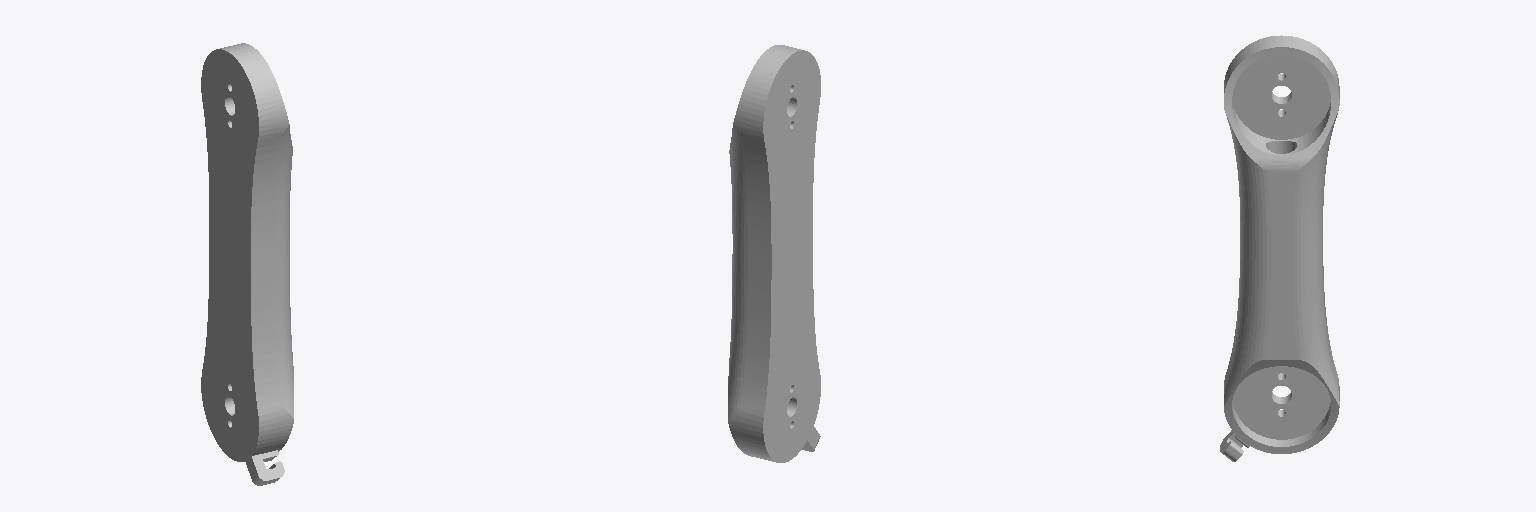
File: pierwsze_ramiev2.obj
3 views of the same model, side by side, from view 1: azimuth 30°, elevation 25°; view 2: azimuth 150°, elevation 25°; view 3: azimuth 270°, elevation 25° (orthographic).
Bounding box in the file's own units: 0.126 × 1 × 0.2593.